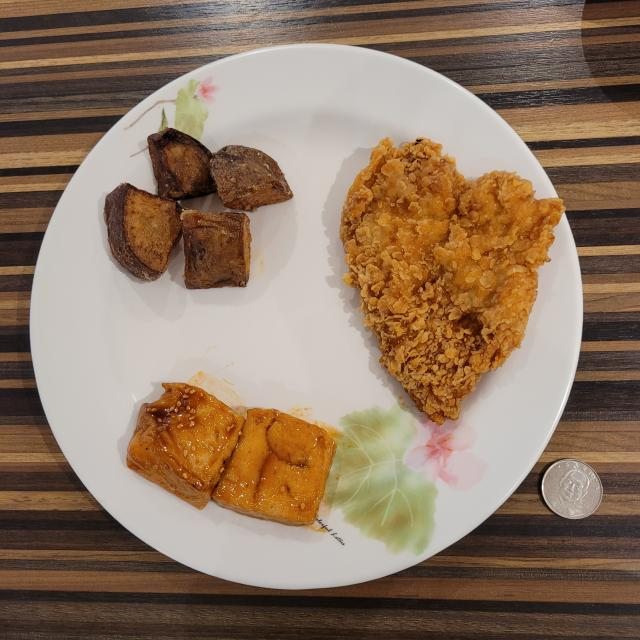coin: (541, 459, 602, 519)
creamy tofu: (126, 382, 336, 525)
fried chicken cutlet: (340, 139, 565, 424)
fried potato: (105, 126, 292, 289)
